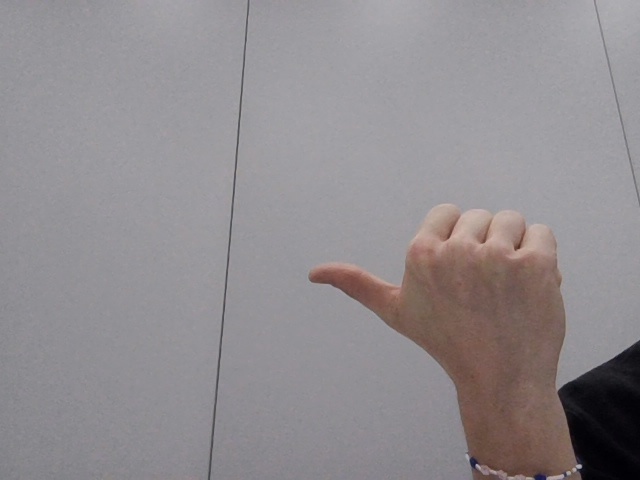right: (282, 186, 591, 415)
